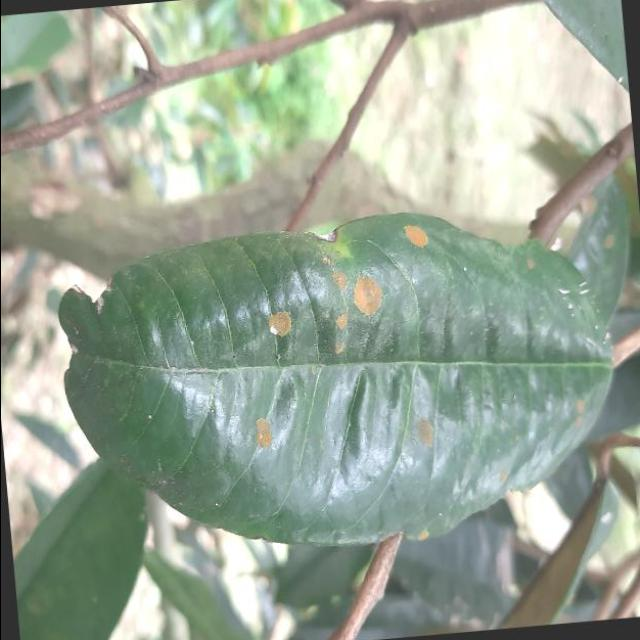Algal Leaf Spot: (37, 185, 633, 578)
